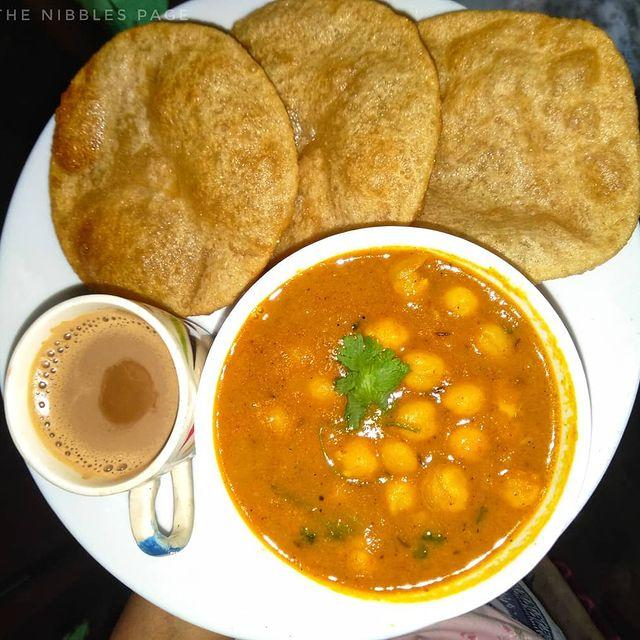Chole: (334, 283, 548, 553)
